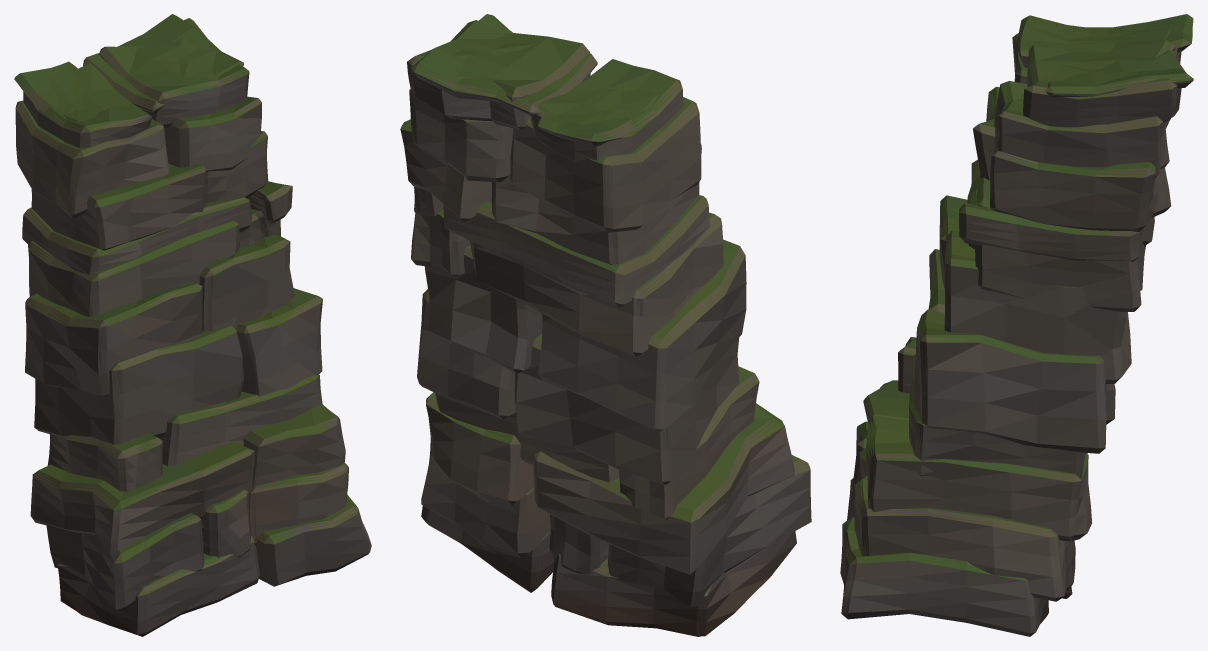
The model's file is cliff_strata_tall.glb.
3 views of the same model, side by side, from view 1: azimuth 30°, elevation 25°; view 2: azimuth 150°, elevation 25°; view 3: azimuth 270°, elevation 25° (orthographic). The views are drawn at different scales.
Parts seen in each view (by area): view 1: cliff_strata_tall; view 2: cliff_strata_tall; view 3: cliff_strata_tall.
Part boxes in pixels (bbox=[...]): cliff_strata_tall: bbox=[14, 14, 371, 636]; cliff_strata_tall: bbox=[400, 14, 811, 636]; cliff_strata_tall: bbox=[840, 14, 1193, 636].
Size of the model in its own units: 5.61 by 10.24 by 5.68.
